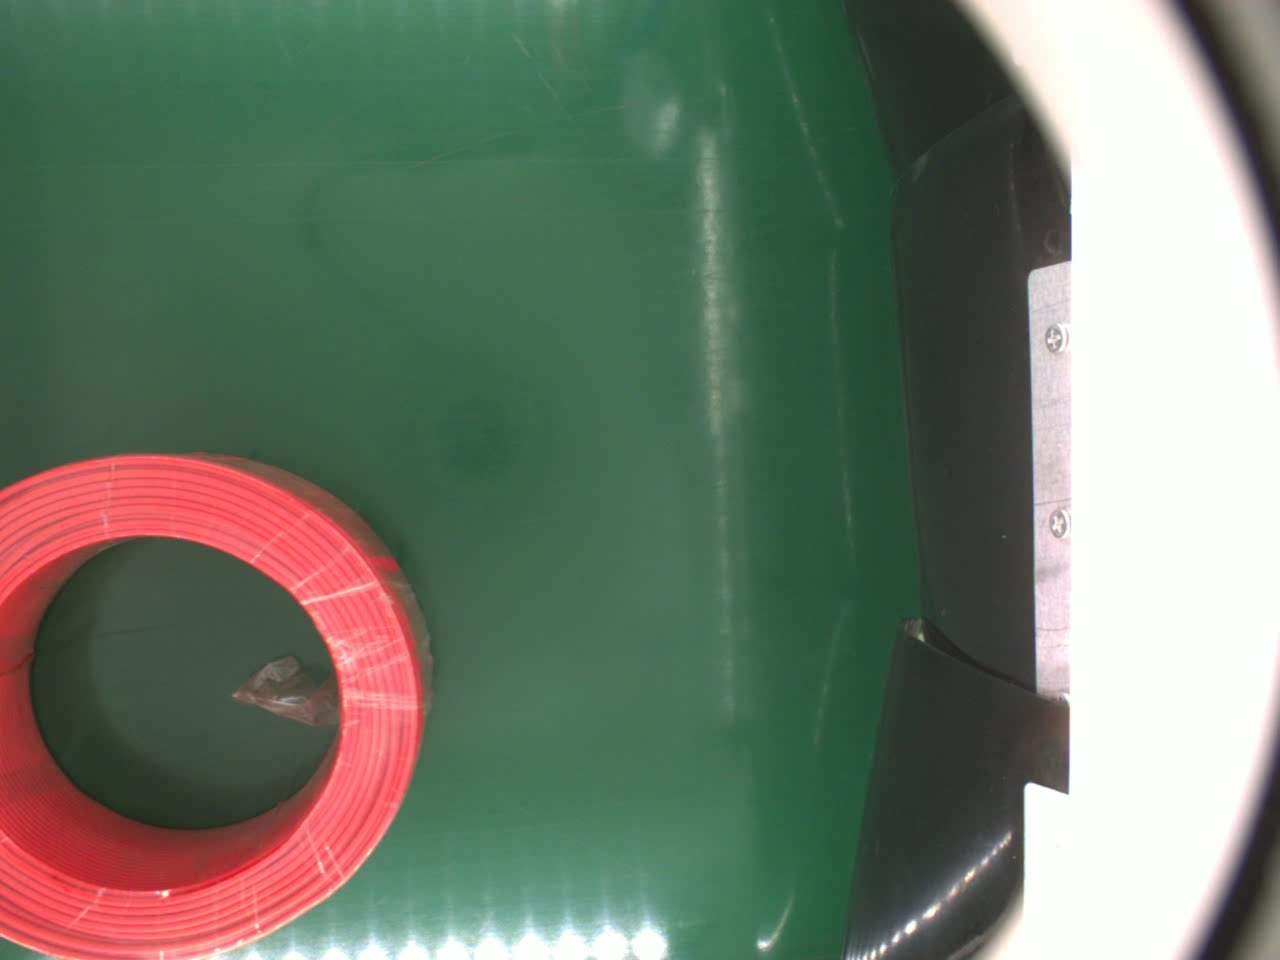red: (0, 445, 436, 960)
